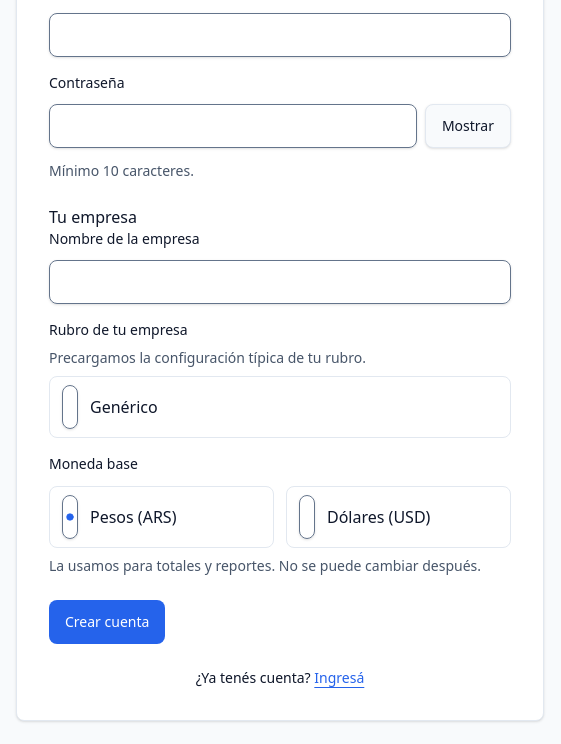
SignupPage › validates required fields, focuses the first error and makes no request
This screenshot has width=561, height=744.
(page scrolled)
Expected: the radio button named "Genérico" next to "Genérico" is shown, [62,385,78,429]
Click the button "Crear cuenta" at (107, 622), box [49,600,165,644]
(page scrolled)
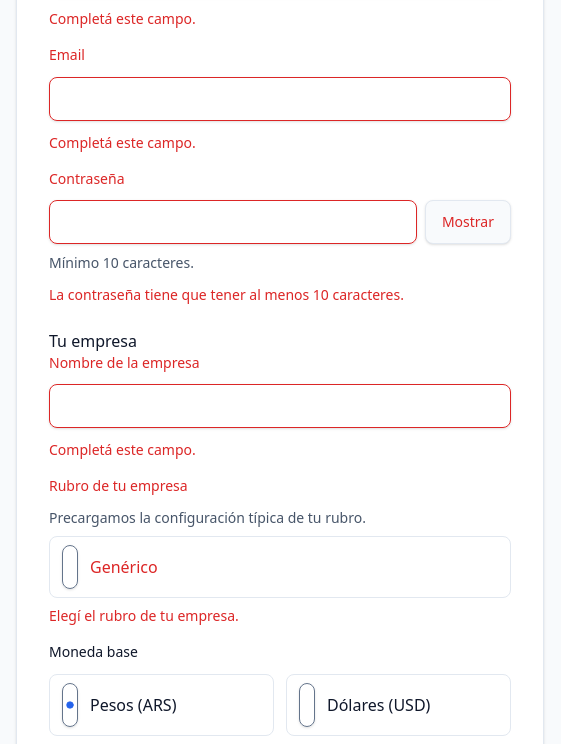
Result: the text "Completá este campo." is shown 3 times at [49,9,196,28]; [49,132,196,152]; [49,440,196,459]
Result: the text "La contraseña tiene que tener al menos 10 caracteres." is shown at [49,285,404,304]
Result: the text "Elegí el rubro de tu empresa." is shown at [49,606,239,625]
